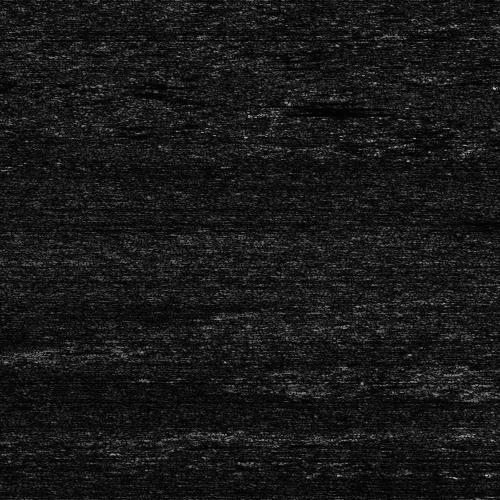rock: (248, 109, 301, 116), (254, 105, 295, 108), (275, 99, 306, 102)
shadow: (275, 109, 379, 116), (275, 105, 379, 108), (291, 99, 326, 102)
